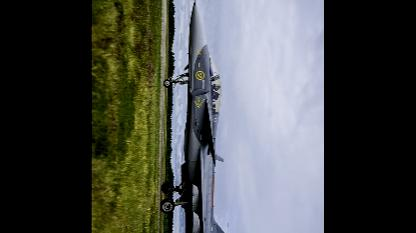JAS39: (161, 0, 253, 232)
